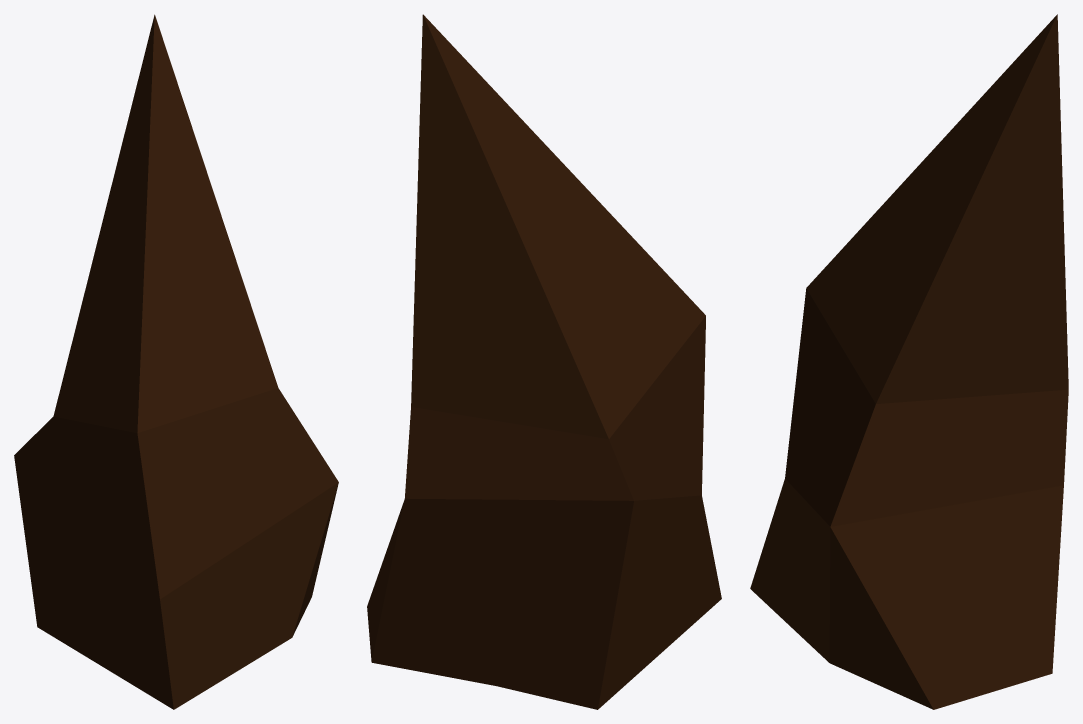
Rendered from GrandHeresy_SpikeRock_1.fbx.
3 renders of one model, left to right at view 1: azimuth 30°, elevation 25°; view 2: azimuth 150°, elevation 25°; view 3: azimuth 270°, elevation 25°, orthographic. The views are drawn at different scales.
Visible parts, largest first — view 1: Cube.005; view 2: Cube.005; view 3: Cube.005.
Part boxes in pixels (<box>): Cube.005: <box>14,14,338,709</box>; Cube.005: <box>367,14,721,709</box>; Cube.005: <box>750,14,1068,709</box>.
Size of the model in its own units: 918 by 1904 by 857.
